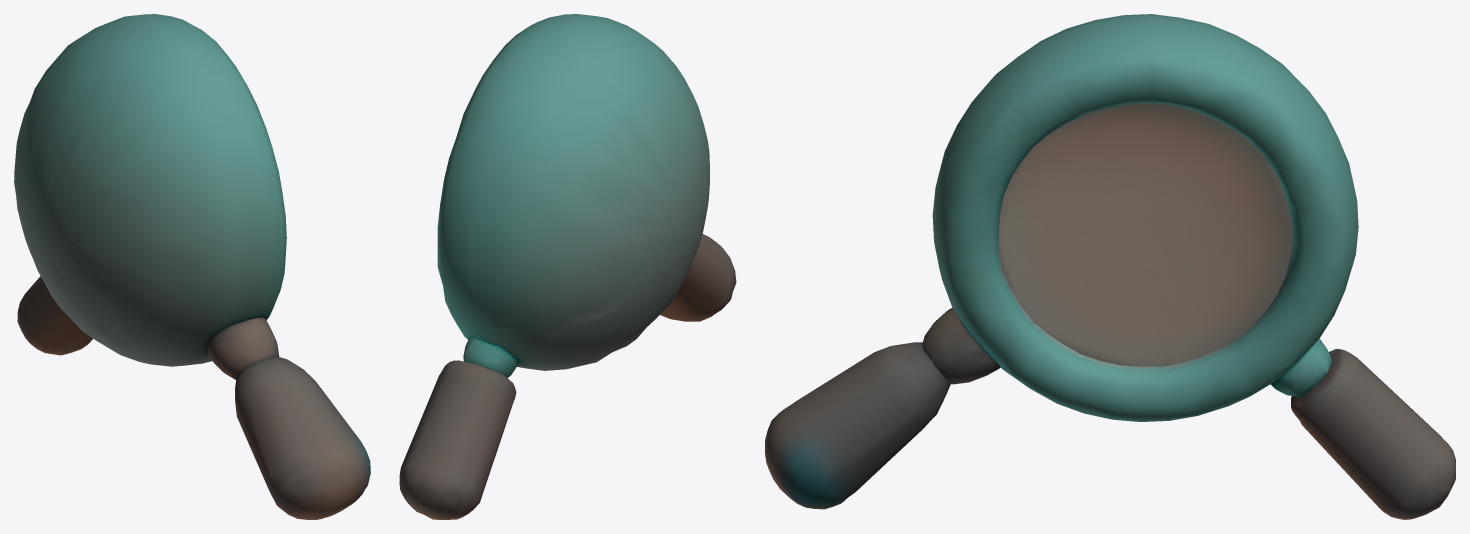
Rendered from icon-magnifier.glb.
3 renders of one model, left to right at view 1: azimuth 30°, elevation 25°; view 2: azimuth 150°, elevation 25°; view 3: azimuth 270°, elevation 25°, orthographic. The views are drawn at different scales.
Visible parts, largest first — view 1: tripo_node_kodyurd-model-54____________________; view 2: tripo_node_kodyurd-model-54____________________; view 3: tripo_node_kodyurd-model-54____________________.
Part boxes in pixels (x1,y1,x2,y2): tripo_node_kodyurd-model-54____________________: (14,14,370,519); tripo_node_kodyurd-model-54____________________: (399,14,736,519); tripo_node_kodyurd-model-54____________________: (765,14,1455,519).
Size of the model in its own units: 0.3652 by 0.7715 by 0.998.
1 material, 1 textured.
